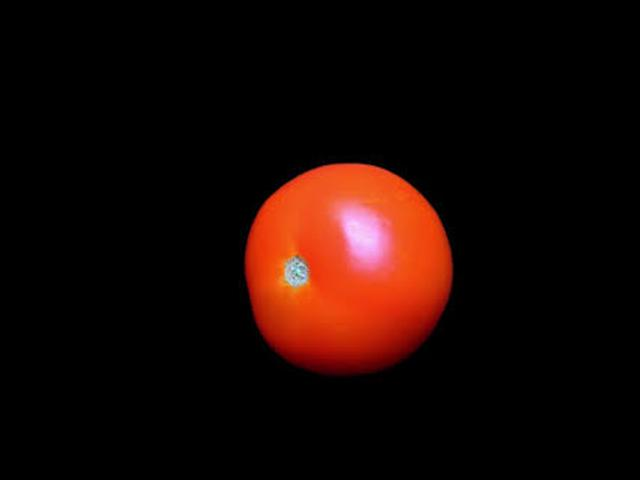tomato: (245, 162, 452, 376)
